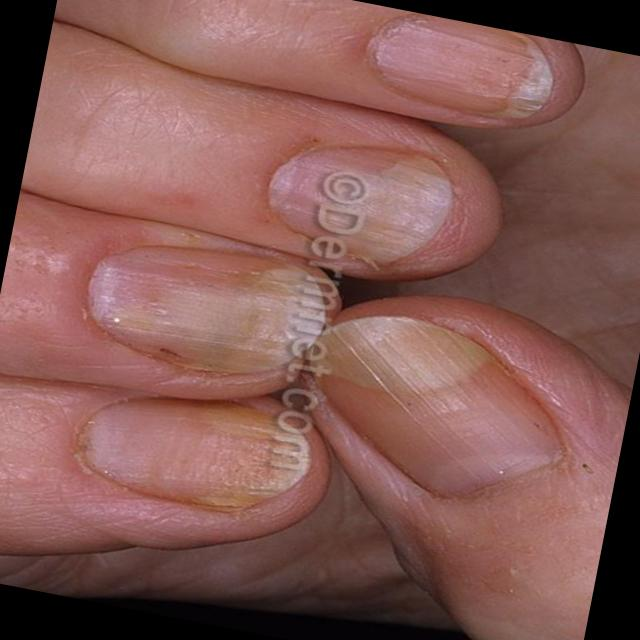Nail: (308, 315, 554, 495), (86, 245, 324, 373), (73, 395, 308, 506), (266, 145, 452, 257), (370, 15, 555, 119)
